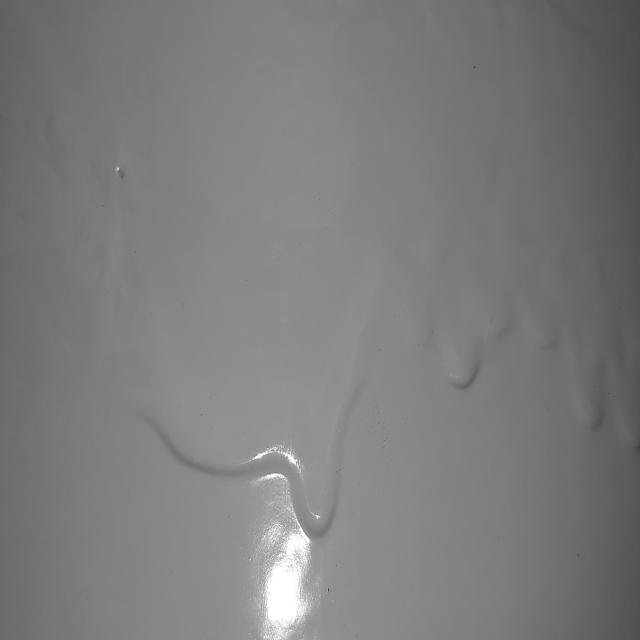paint drips: (94, 215, 412, 576), (428, 185, 640, 465)
